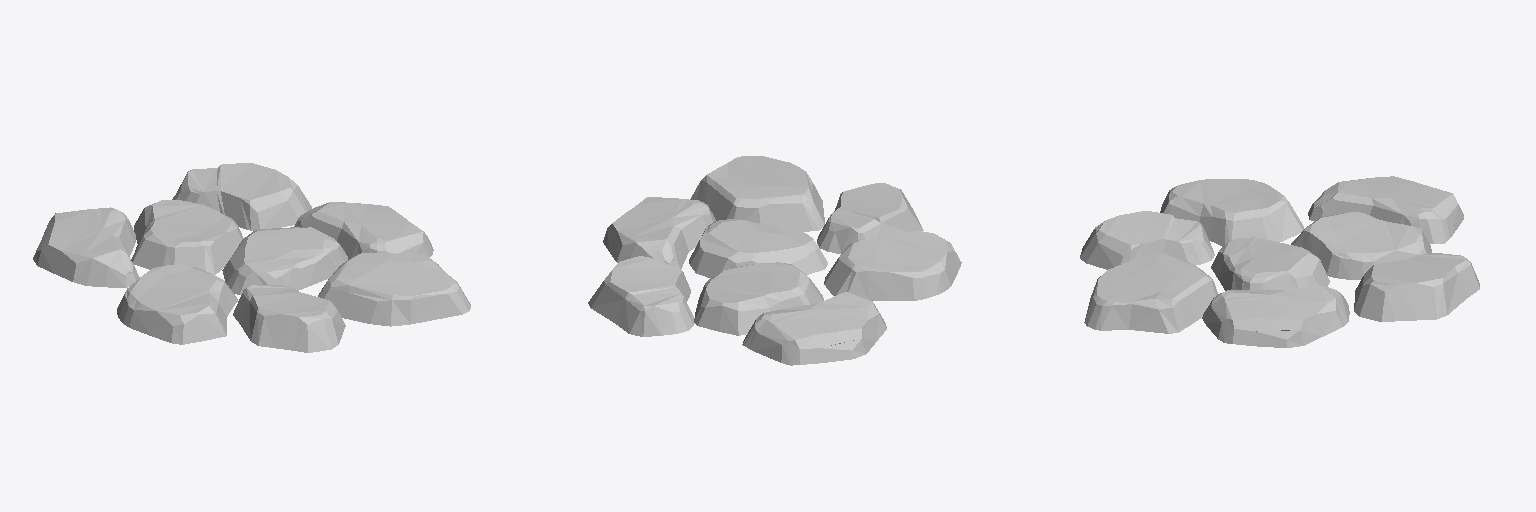
File: RockPath_Round_Small_3.obj
3 views of the same model, side by side, from view 1: azimuth 30°, elevation 25°; view 2: azimuth 150°, elevation 25°; view 3: azimuth 270°, elevation 25° (orthographic).
Parts seen in each view (by area): view 1: RockPath_Round_Small_3; view 2: RockPath_Round_Small_3; view 3: RockPath_Round_Small_3.
Part boxes in pixels (x1,y1,x2,y2): RockPath_Round_Small_3: (33,163,470,352); RockPath_Round_Small_3: (588,156,961,365); RockPath_Round_Small_3: (1080,176,1479,347).
Bounding box in the file's own units: 1.18 × 0.1093 × 1.29.